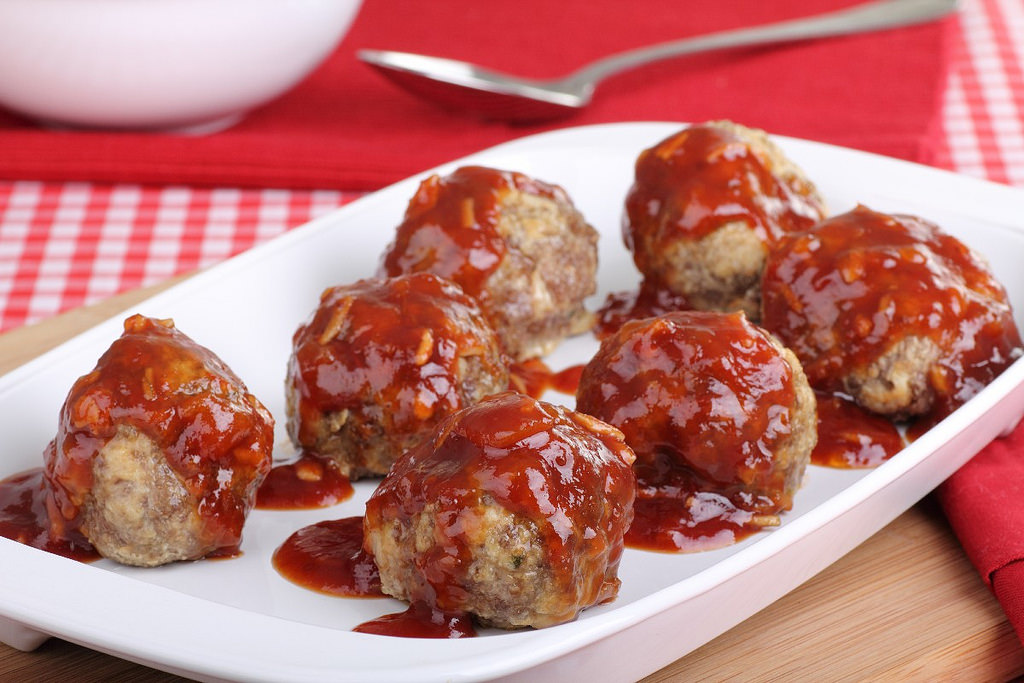meatballs: (68, 343, 242, 561), (383, 423, 601, 595), (624, 310, 806, 505), (786, 218, 988, 356), (334, 292, 527, 423), (429, 187, 563, 312), (663, 138, 786, 274)
